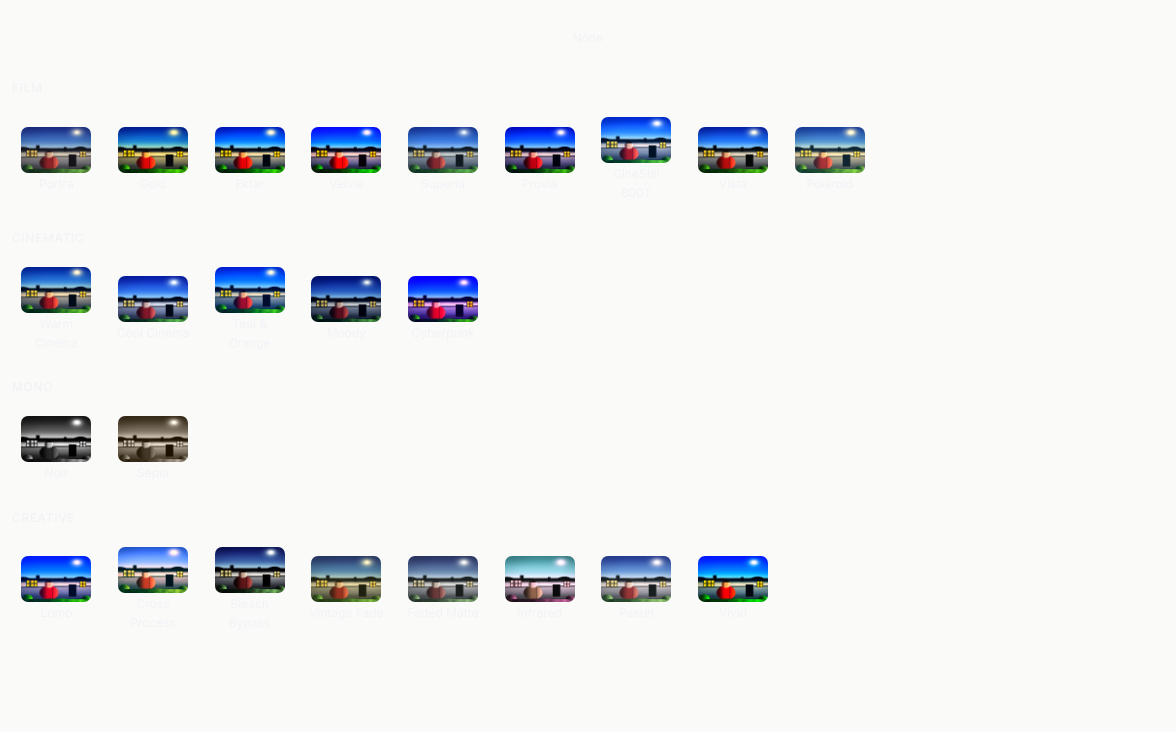
Test: FiltersPanel › clears a previous failure when another look is picked
Click the button "Portra": {"x": 56, "y": 159} [12, 105, 101, 214]
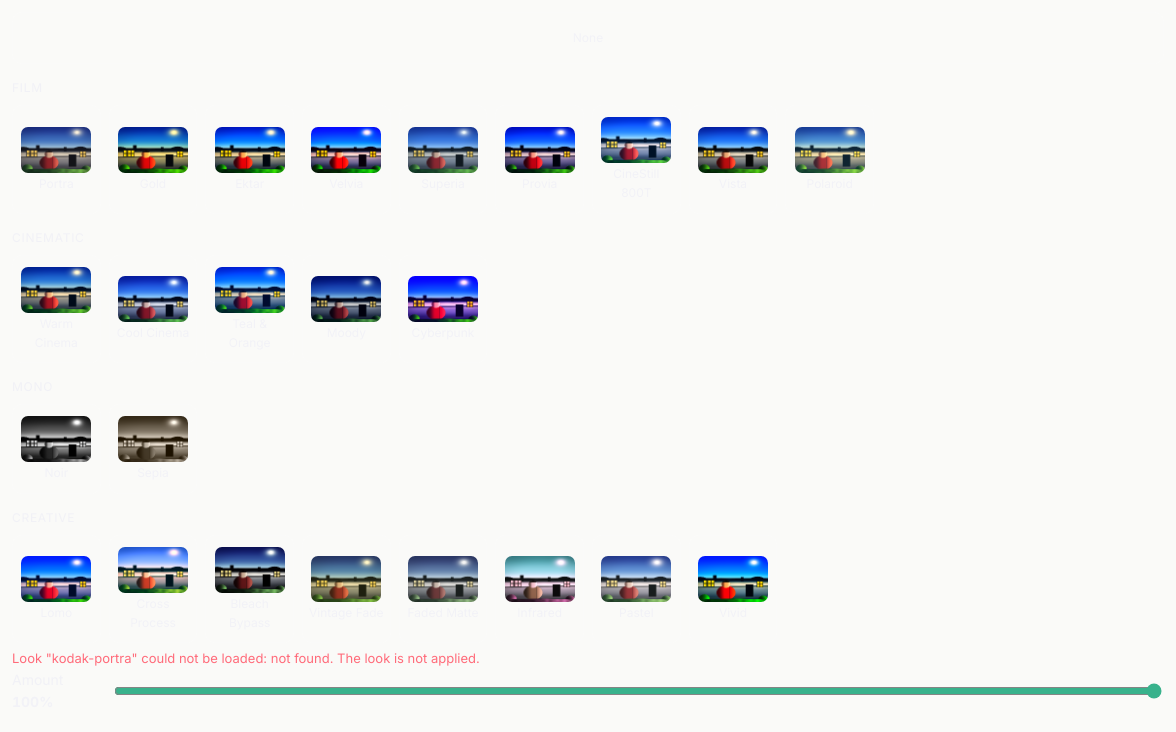
Now the message "Look \"kodak-portra\" could not be loaded: not found. The look is not applied." is shown, box [12, 650, 480, 666]
Click the button "Ektar": {"x": 250, "y": 159} [205, 105, 294, 214]
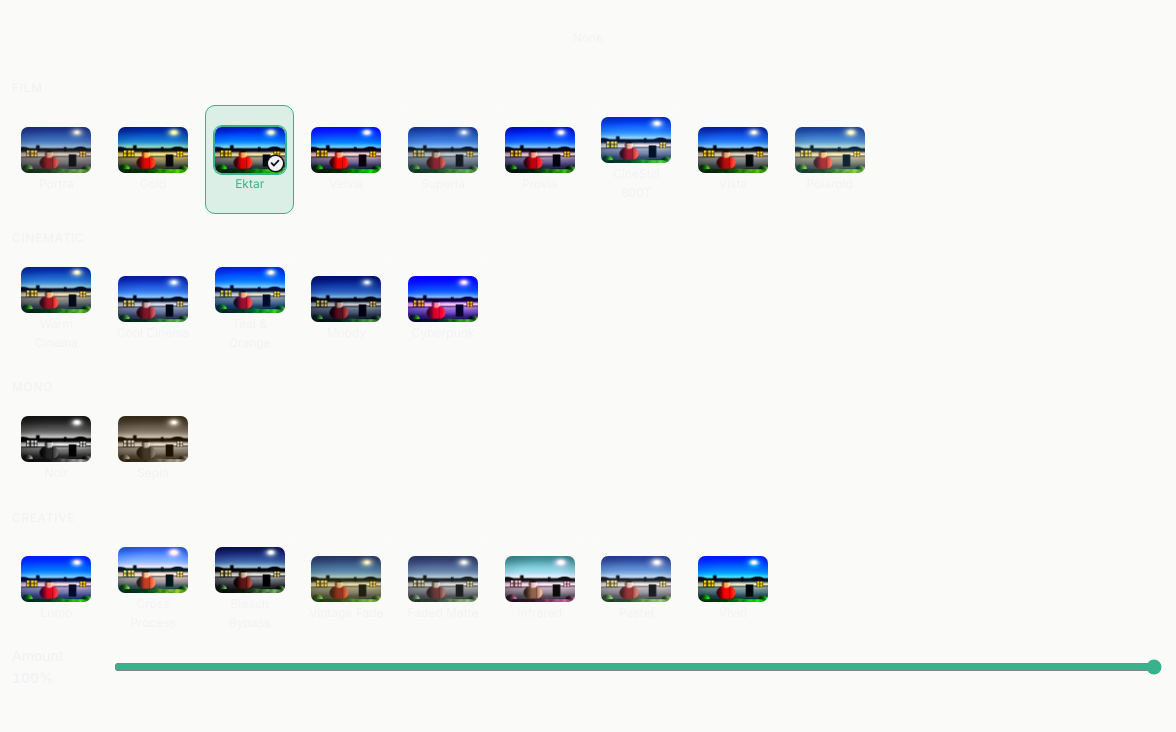
Now the message "Look \"kodak-portra\" could not be loaded: not found. The look is not applied." is gone
